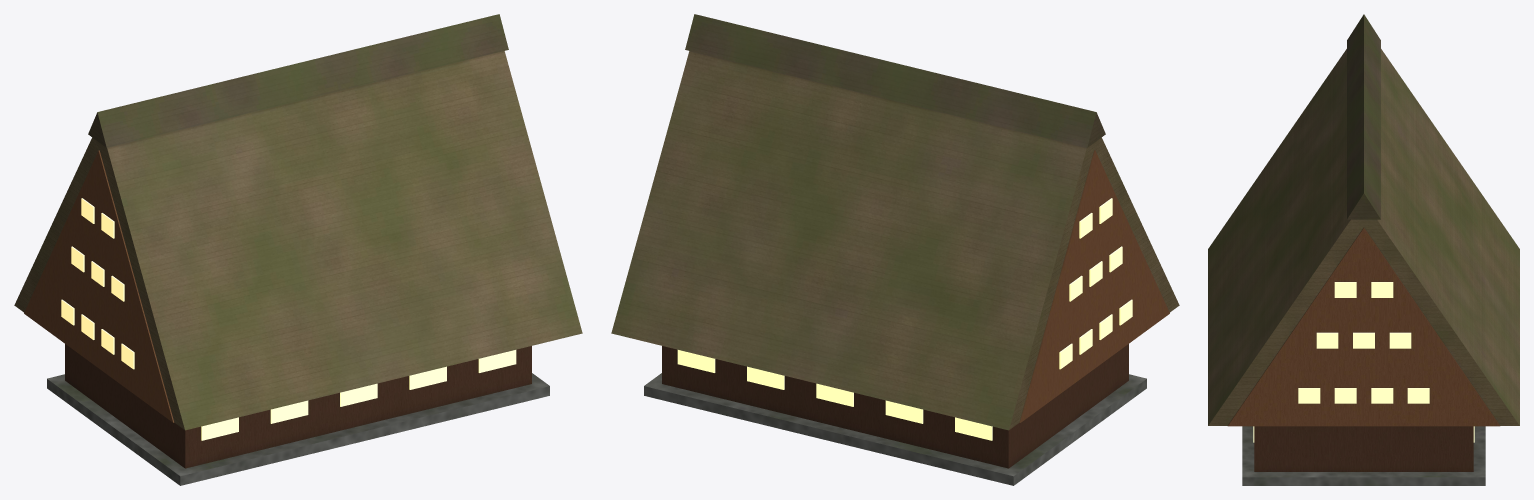
The model's file is gassho_tex.glb.
3 renders of one model, left to right at view 1: azimuth 30°, elevation 25°; view 2: azimuth 150°, elevation 25°; view 3: azimuth 270°, elevation 25°, orthographic. The views are drawn at different scales.
Visible parts, largest first — view 1: gassho; view 2: gassho; view 3: gassho.
Boxes of the visible parts, x1,y1,x2,y2 form: gassho: (14, 14, 582, 485); gassho: (611, 14, 1179, 485); gassho: (1208, 14, 1519, 485).
Bounding box in the file's own units: 17.4 × 13.6 × 12.8.
Materials: 7 (5 with a texture image).
